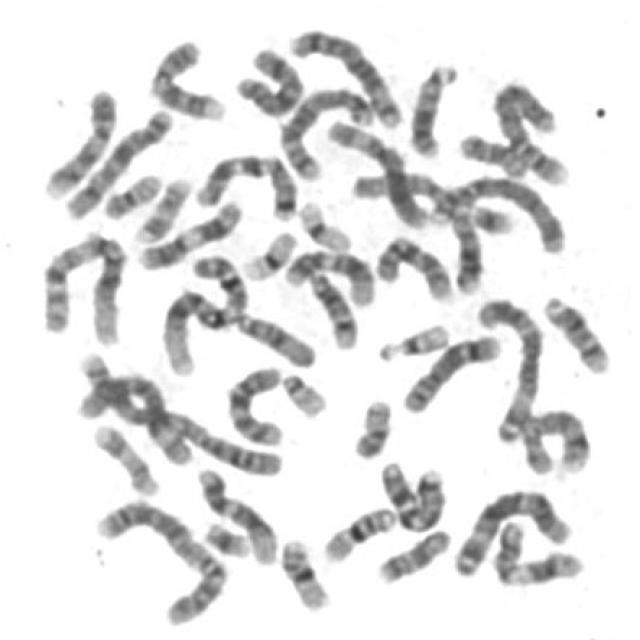A1: (154, 244, 252, 377), (32, 223, 130, 346)
A2: (71, 366, 287, 479), (86, 490, 230, 628)
A3: (445, 480, 576, 580), (470, 286, 546, 444)
B4: (422, 165, 569, 256), (484, 71, 572, 187)
B5: (280, 18, 406, 130), (272, 77, 377, 182)
C10: (367, 226, 458, 305), (216, 356, 288, 447)
C11: (130, 191, 246, 272), (486, 512, 586, 588)
C12: (188, 457, 280, 567), (276, 238, 378, 309)
C6: (71, 344, 198, 468), (319, 111, 432, 231)
C7: (185, 144, 300, 222), (371, 453, 448, 533)
C8: (393, 326, 506, 414), (513, 399, 594, 478)
C9: (35, 79, 120, 201), (140, 29, 230, 122)
D13: (400, 53, 462, 158), (443, 198, 484, 297)
D14: (533, 286, 614, 376), (299, 260, 361, 350)
D15: (345, 161, 465, 213), (228, 304, 320, 368)
E16: (314, 497, 398, 564), (272, 529, 334, 612)
E17: (84, 414, 162, 498), (127, 168, 195, 244)
E18: (368, 519, 454, 586), (451, 123, 532, 180)
F19: (289, 191, 355, 254), (234, 222, 299, 281)
F20: (94, 163, 165, 220), (344, 389, 394, 462)
G21: (195, 511, 254, 560), (461, 194, 517, 235)
G22: (368, 313, 452, 363), (273, 363, 331, 420)
X: (55, 100, 175, 220), (227, 37, 308, 118)
